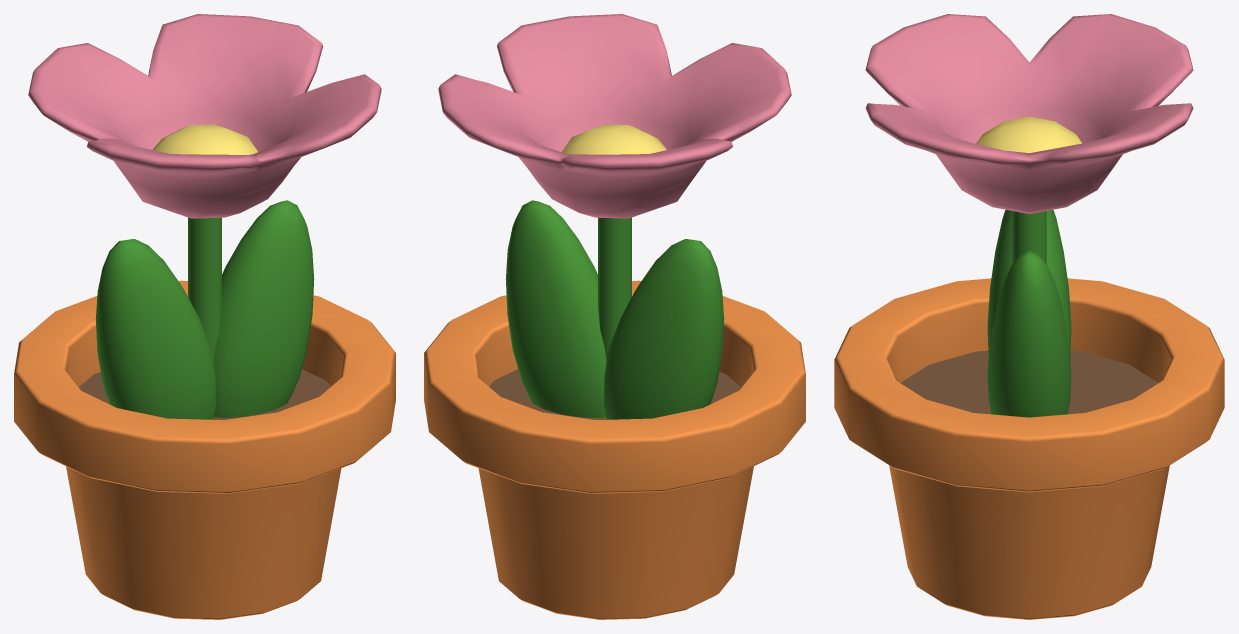
Rendered from Flower_3.glb.
3 renders of one model, left to right at view 1: azimuth 30°, elevation 25°; view 2: azimuth 150°, elevation 25°; view 3: azimuth 270°, elevation 25°, orthographic.
Visible parts, largest first — view 1: Flower_1; view 2: Flower_1; view 3: Flower_1.
Boxes of the visible parts, x1,y1,x2,y2 form: Flower_1: [14, 14, 395, 619]; Flower_1: [424, 14, 805, 619]; Flower_1: [834, 14, 1224, 619].
Bounding box in the file's own units: 0.3199 × 0.4443 × 0.3199.
Materials: 1 (1 with a texture image).
